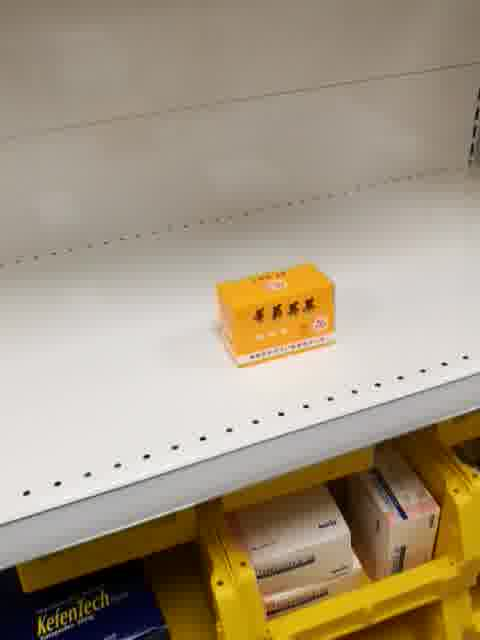jasminetea: (214, 261, 336, 369)
